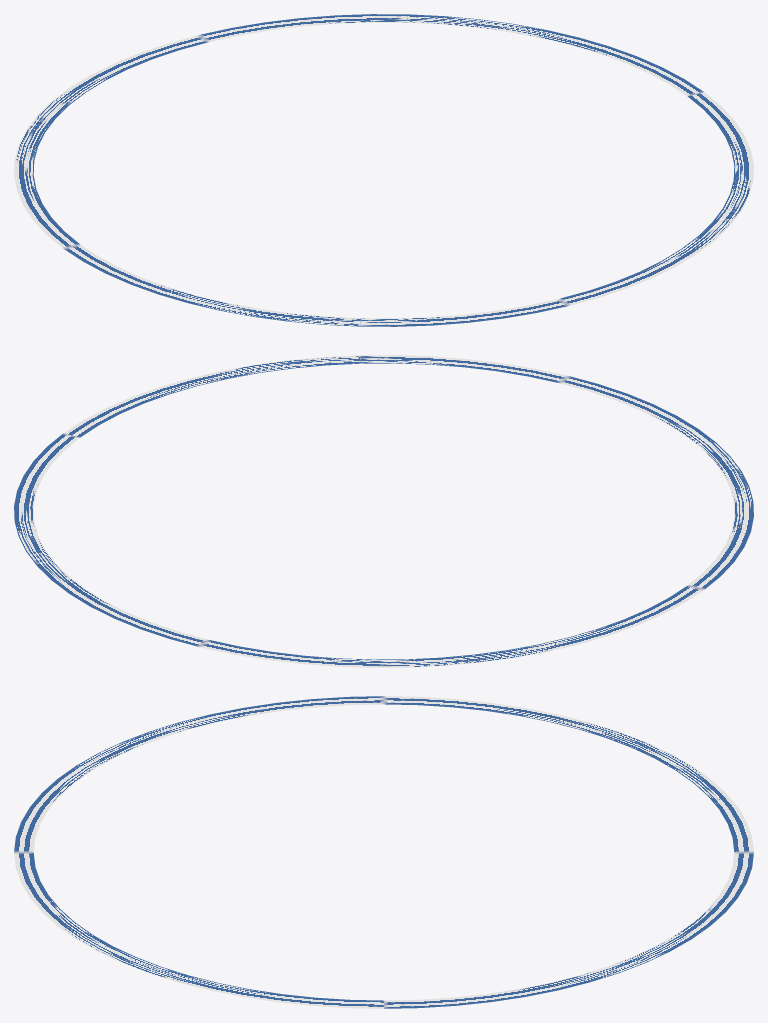
Rendered from Hi_Spl_Hekira_05.fbx.
3 renders of one model, top to bottom at view 1: azimuth 30°, elevation 25°; view 2: azimuth 150°, elevation 25°; view 3: azimuth 270°, elevation 25°, orthographic.
Visible parts, largest first — view 1: SM_d_e_P0001_V00_C00_SplHkr_c050_Hekira_05; view 2: SM_d_e_P0001_V00_C00_SplHkr_c050_Hekira_05; view 3: SM_d_e_P0001_V00_C00_SplHkr_c050_Hekira_05.
Boxes of the visible parts, x1,y1,x2,y2 form: SM_d_e_P0001_V00_C00_SplHkr_c050_Hekira_05: (14, 14, 753, 326); SM_d_e_P0001_V00_C00_SplHkr_c050_Hekira_05: (14, 355, 753, 667); SM_d_e_P0001_V00_C00_SplHkr_c050_Hekira_05: (14, 696, 753, 1008).
Size of the model in its own units: 300 by 3.67e-14 by 300.
